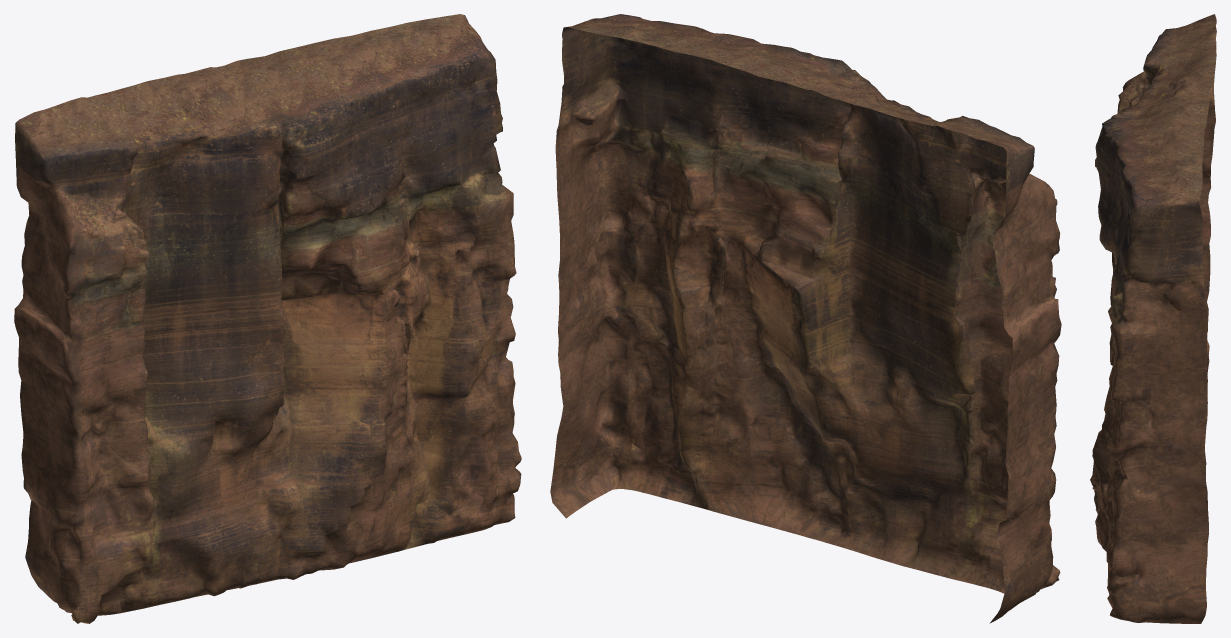
Rendered from quarry_cliff_ubjuddqda_mid.glb.
3 views of the same model, side by side, from view 1: azimuth 30°, elevation 25°; view 2: azimuth 150°, elevation 25°; view 3: azimuth 270°, elevation 25° (orthographic). The views are drawn at different scales.
Visible parts, largest first — view 1: ubjuddqda_LOD0_TIER2_000; view 2: ubjuddqda_LOD0_TIER2_000; view 3: ubjuddqda_LOD0_TIER2_000.
Part boxes in pixels (<box>): ubjuddqda_LOD0_TIER2_000: <box>14,14,521,623</box>; ubjuddqda_LOD0_TIER2_000: <box>550,14,1061,623</box>; ubjuddqda_LOD0_TIER2_000: <box>1090,14,1216,623</box>.
Size of the model in its own units: 12.9 by 13.22 by 3.5.
1 material, 1 textured.
